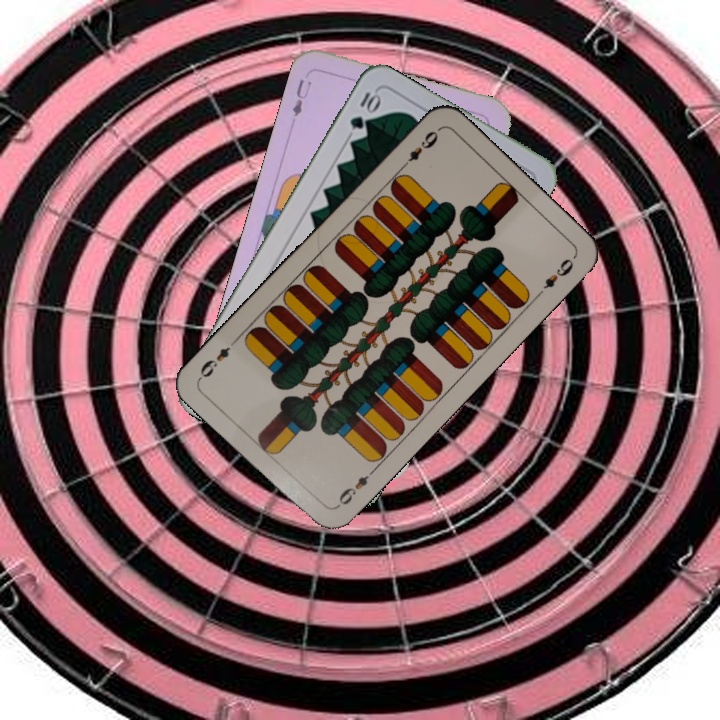E9: (397, 124, 442, 172), (332, 465, 378, 511)
EU: (288, 75, 315, 119)
G10: (345, 88, 383, 132)
